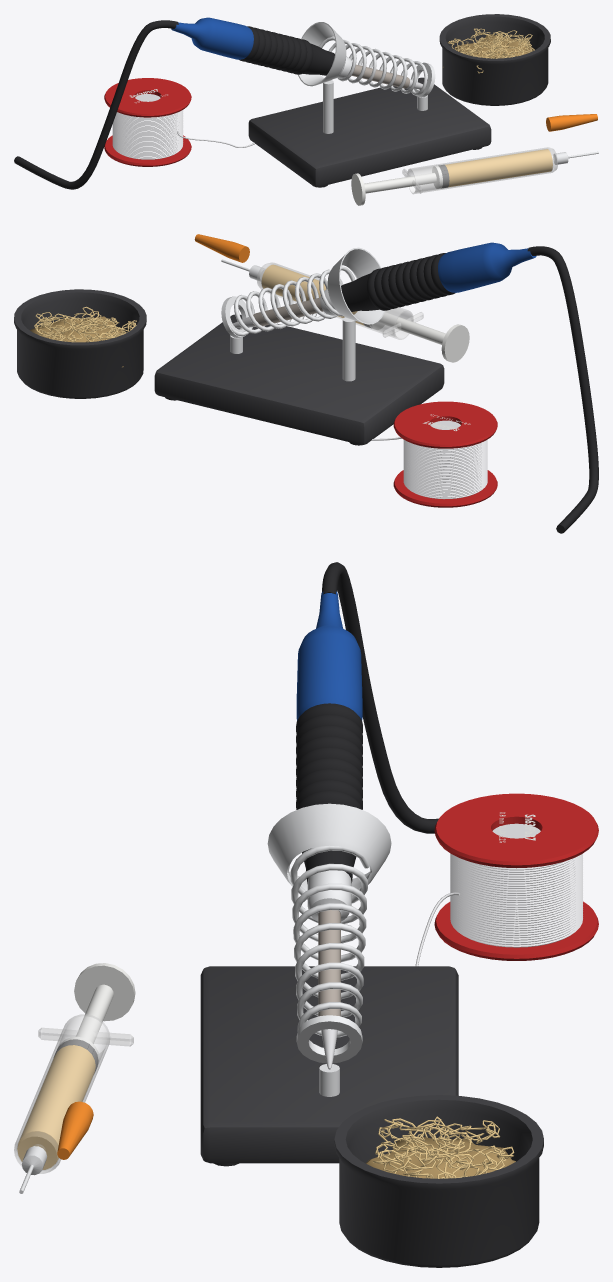
The model's file is soldador.glb.
3 views of the same model, one above another, from view 1: azimuth 30°, elevation 25°; view 2: azimuth 150°, elevation 25°; view 3: azimuth 270°, elevation 25° (orthographic). The views are drawn at different scales.
Parts seen in each view (by area): view 1: soporte_base, limpiador_vaso, jeringa_cuerpo, carrete_cuerpo, carrete_estano_alambre, cautin_goma, jeringa_flux_gel, cable_cautin, cautin_mango, soporte_resorte, limpiador_lana, jeringa_embolo (+5 smaller); view 2: soporte_base, limpiador_vaso, carrete_cuerpo, carrete_estano_alambre, cautin_goma, cable_cautin, cautin_mango, soporte_resorte, limpiador_lana, jeringa_cuerpo, soporte_boca, jeringa_embolo (+5 smaller); view 3: soporte_base, limpiador_vaso, carrete_cuerpo, carrete_estano_alambre, soporte_resorte, cautin_goma, jeringa_cuerpo, limpiador_lana, soporte_boca, cautin_mango, jeringa_flux_gel, cable_cautin (+5 smaller).
Part boxes in pixels (x1,y1,x2,y2): soporte_base: (248,77,491,187); limpiador_vaso: (439,14,550,105); jeringa_cuerpo: (407,147,557,194); carrete_cuerpo: (104,78,191,166); carrete_estano_alambre: (112,94,183,159); cautin_goma: (239,26,334,75); jeringa_flux_gel: (445,149,552,187); cable_cautin: (14,20,178,189); cautin_mango: (171,17,253,59); soporte_resorte: (319,37,427,95); limpiador_lana: (443,28,534,73); jeringa_embolo: (351,165,442,205); soporte_base: (154,314,444,445); limpiador_vaso: (14,289,146,398); carrete_cuerpo: (393,401,497,507); carrete_estano_alambre: (403,420,487,499); cautin_goma: (341,253,455,311); cable_cautin: (527,246,598,533); cautin_mango: (438,242,536,292); soporte_resorte: (228,266,355,336); limpiador_lana: (30,306,136,367); jeringa_cuerpo: (257,262,413,339); soporte_boca: (327,247,385,324); jeringa_embolo: (369,310,469,362); soporte_base: (200,966,458,1166); limpiador_vaso: (334,1095,543,1267); carrete_cuerpo: (434,793,598,960); carrete_estano_alambre: (450,823,582,947); soporte_resorte: (290,845,369,1049); cautin_goma: (296,703,362,883); jeringa_cuerpo: (14,1014,109,1173); limpiador_lana: (366,1116,515,1178); soporte_boca: (267,803,391,895); cautin_mango: (296,591,362,720); jeringa_flux_gel: (17,1045,95,1169); cable_cautin: (322,562,438,833).
Size of the model in its own units: 0.3313 by 0.1126 by 0.1813.
